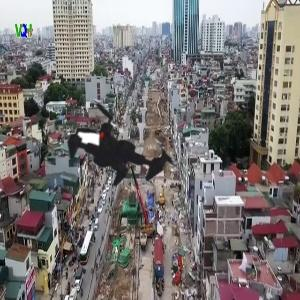drone: (41, 63, 205, 227)
